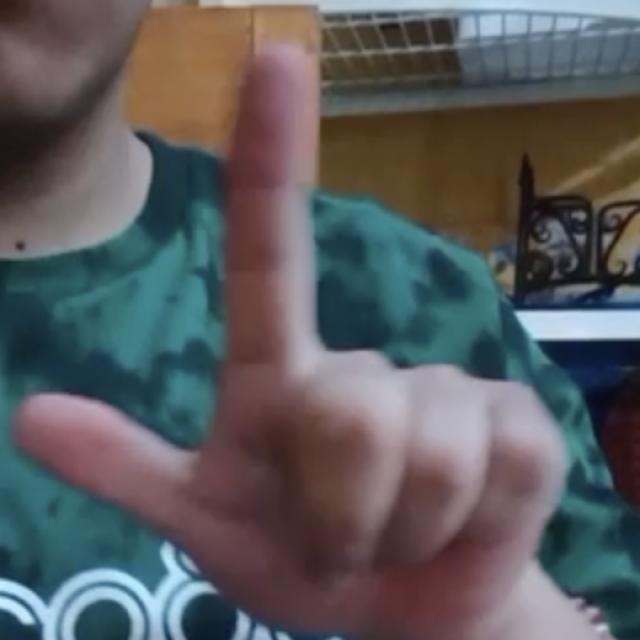LL: (6, 41, 575, 639)
